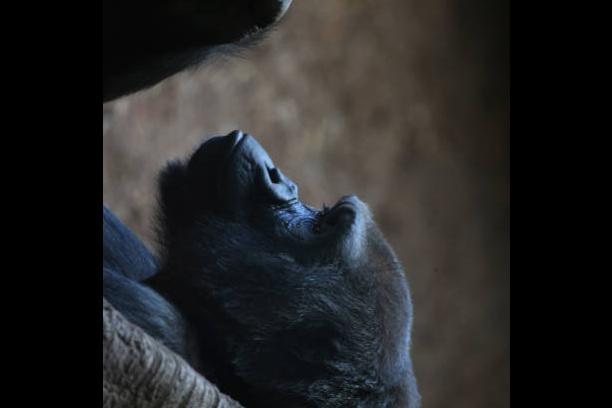gorille_Autres: (102, 132, 421, 408)
